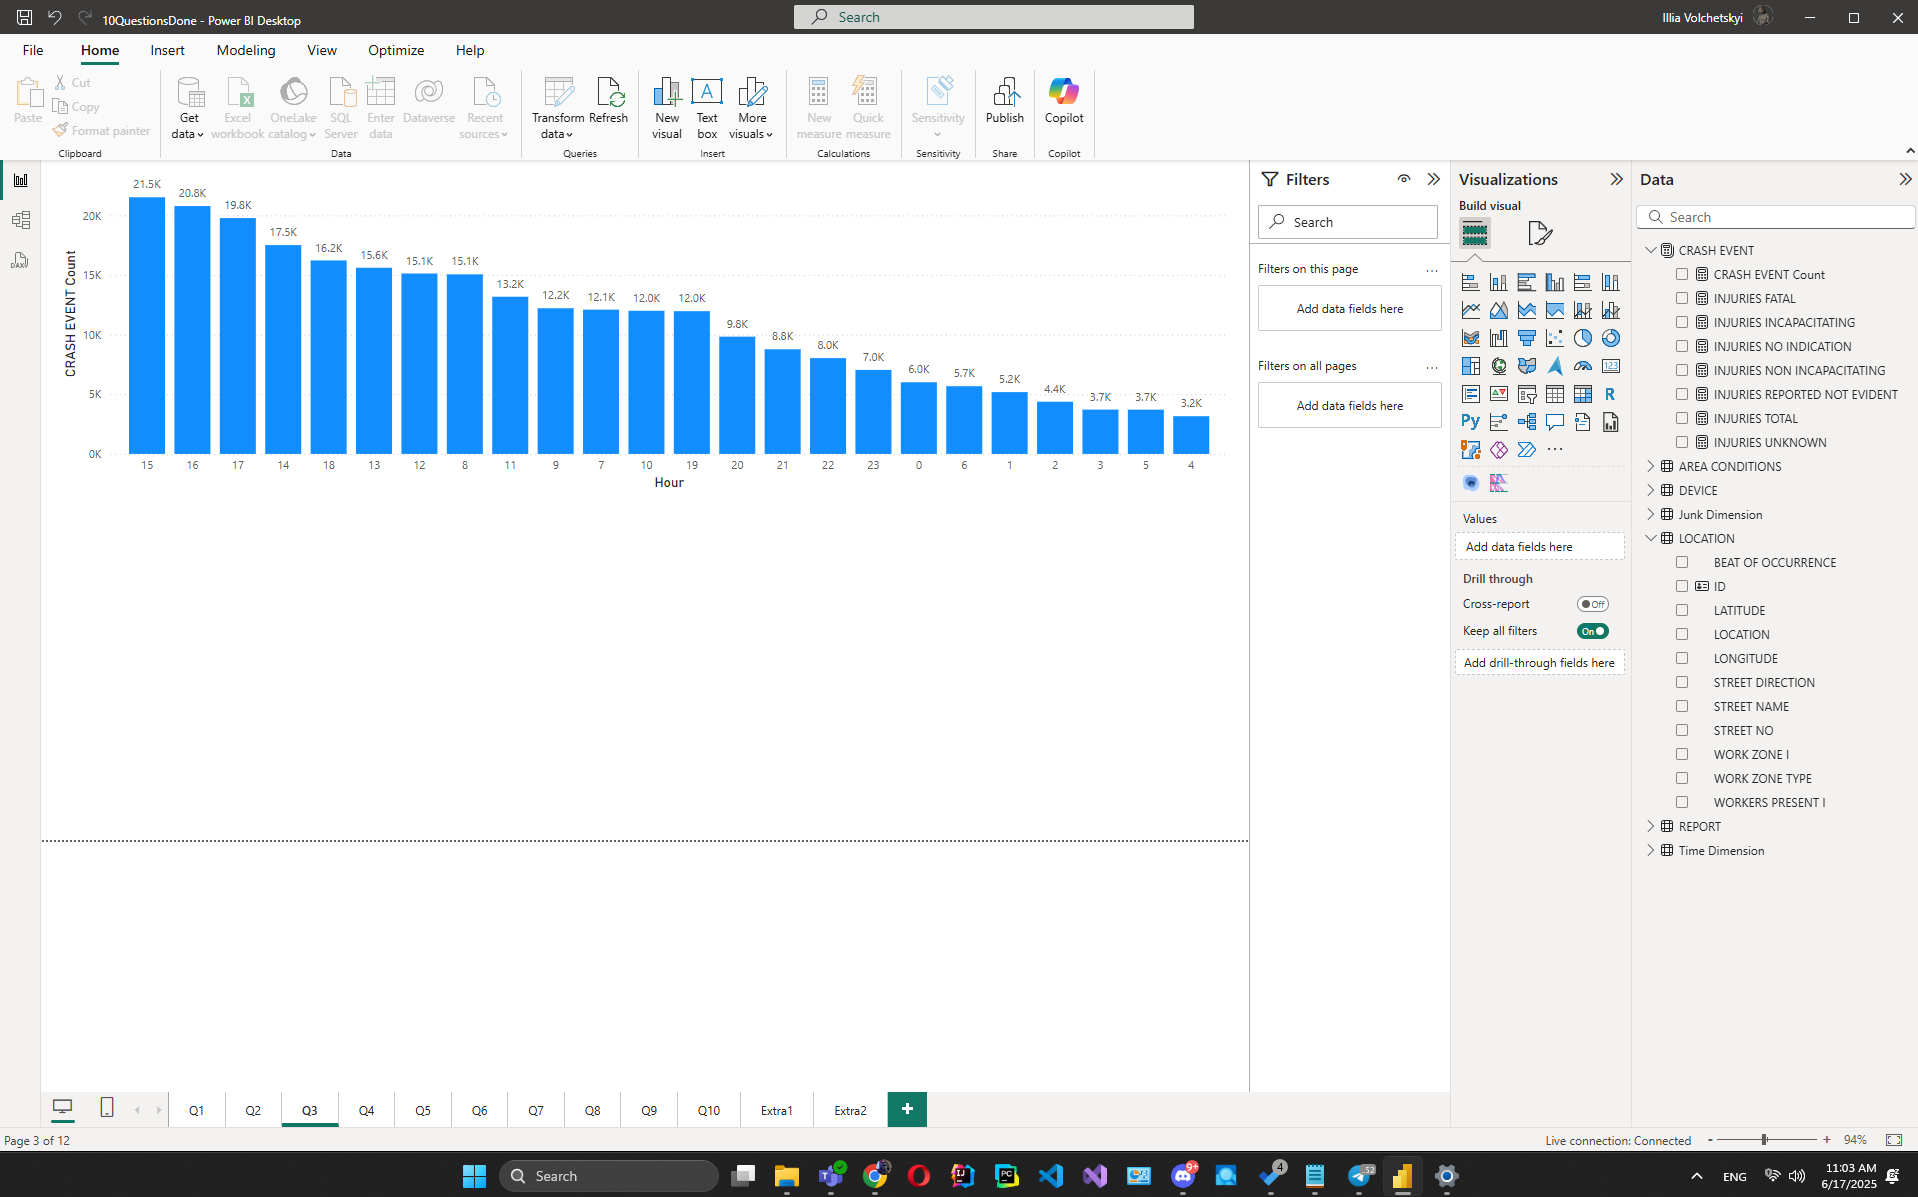

The dashboard page shown, as its layout file describes it:
{"tool":"powerbi","page":{"name":"Q3","canvas":[1280,720],"ordinal":2},"visuals":[{"type":"clusteredColumnChart","fields":{"Y":["CRASH EVENT.CRASH EVENT Count"],"Category":["Time Dimension.Hour"]},"box":[17.8,0,1244.4,354.4],"z":0}]}

Visuals, with their boxes on the page's 1280x720 design canvas (x1, y1, x2, y2). These are canvas units, not pixel positions in the 1918x1197 screenshot, which may show the page scaled, cropped or inside an application window:
clusteredColumnChart - CRASH EVENT.CRASH EVENT Count x Time Dimension.Hour: BBox(18, 0, 1262, 354)
